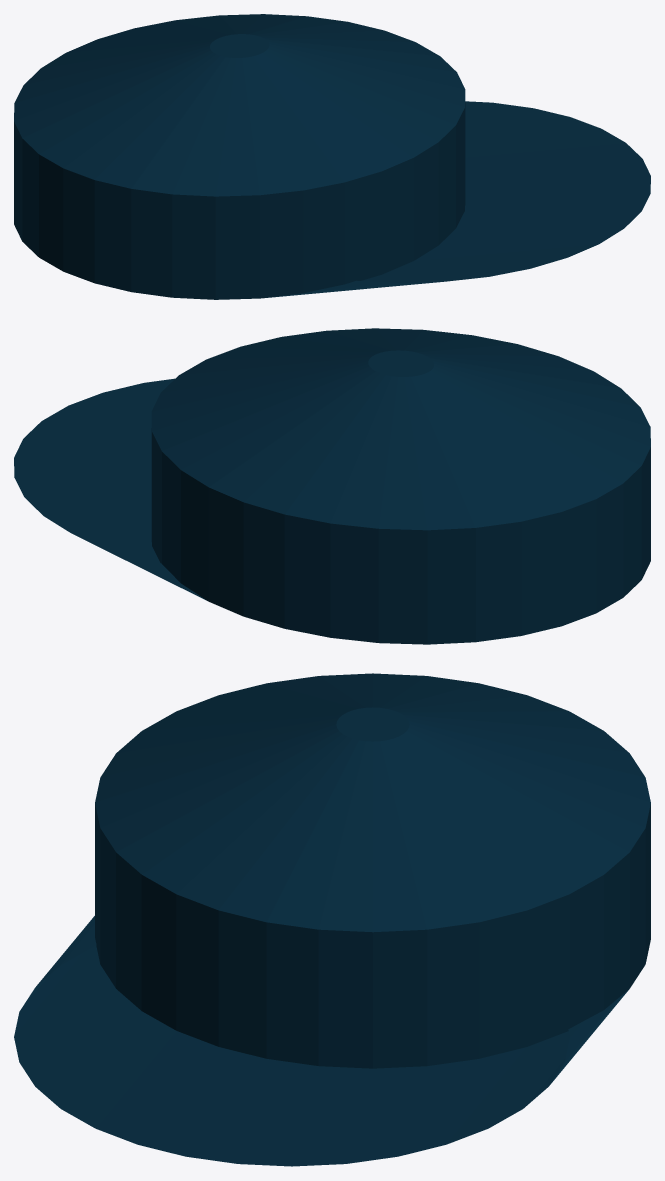
The model's file is hat.obj.
3 renders of one model, top to bottom at view 1: azimuth 30°, elevation 25°; view 2: azimuth 150°, elevation 25°; view 3: azimuth 270°, elevation 25°, orthographic. The views are drawn at different scales.
Visible parts, largest first — view 1: Cylinder; view 2: Cylinder; view 3: Cylinder.
Boxes of the visible parts, x1,y1,x2,y2 form: Cylinder: [14, 14, 650, 299]; Cylinder: [14, 328, 650, 644]; Cylinder: [14, 673, 650, 1166].
Bounding box in the file's own units: 3.26 × 0.9113 × 2.45.
